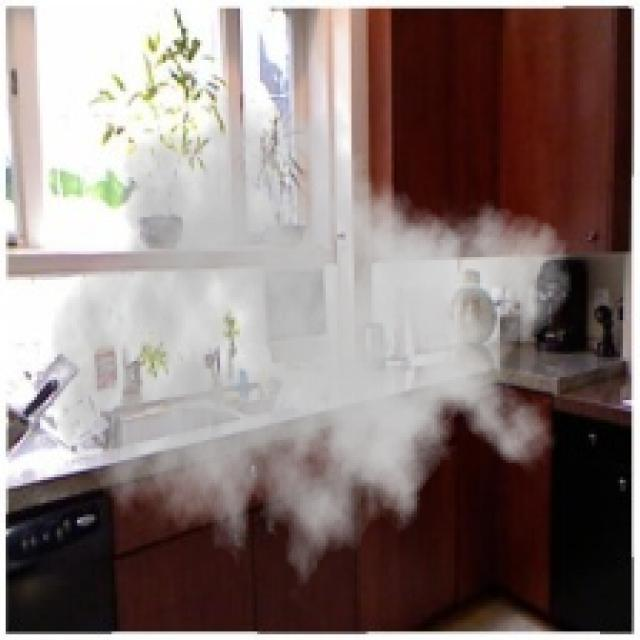Smoke: (48, 74, 574, 609)
